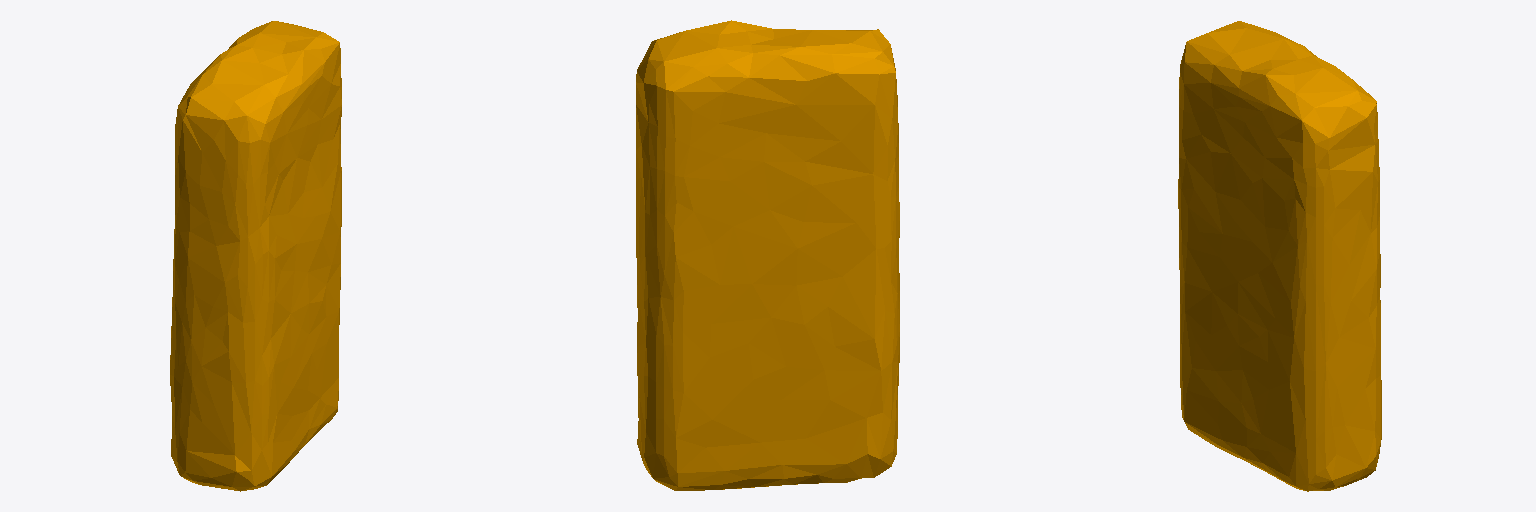
The robot description file, URDF, robot "sugar_box":
<?xml version="1.0"?>
<robot name="sugar_box">
  <link name="base_link">
    <contact>
      <lateral_friction value="1.0"/>
      <rolling_friction value="0.0"/>
      <contact_cfm value="0.0"/>
      <contact_erp value="1.0"/>
    </contact>
    <inertial>
      <mass value="0.458052981324"/>
      <inertia ixx="1" ixy="0" ixz="0" iyy="1" iyz="0" izz="1"/>
    </inertial>
    <visual>
      <geometry>
        <mesh filename="sugar_box_visual.obj"/>
      </geometry>
    </visual>
    <collision>
      <geometry>
        <mesh filename="sugar_box_collision.obj"/>
      </geometry>
    </collision>
  </link>
</robot>

--- Facts derived from the render (not from the file) ---
The picture shows the robot from 3 angles, left to right: view 1: azimuth 30°, elevation 25°; view 2: azimuth 150°, elevation 25°; view 3: azimuth 270°, elevation 25°; orthographic projection.
Robot: sugar_box — 1 links, 0 joints (none); root link base_link; default pose: every joint at zero.
Links seen in each view (by area): view 1: base_link; view 2: base_link; view 3: base_link.
Boxes of the visible links, x1,y1,x2,y2 form: base_link: [170, 21, 341, 491]; base_link: [636, 20, 899, 490]; base_link: [1178, 21, 1381, 491].
Bounding box of the posed robot: 0.0913 × 0.0809 × 0.1769 m (x, y, z).
1 mesh visuals loaded from 1 distinct referenced files (1 OBJ).